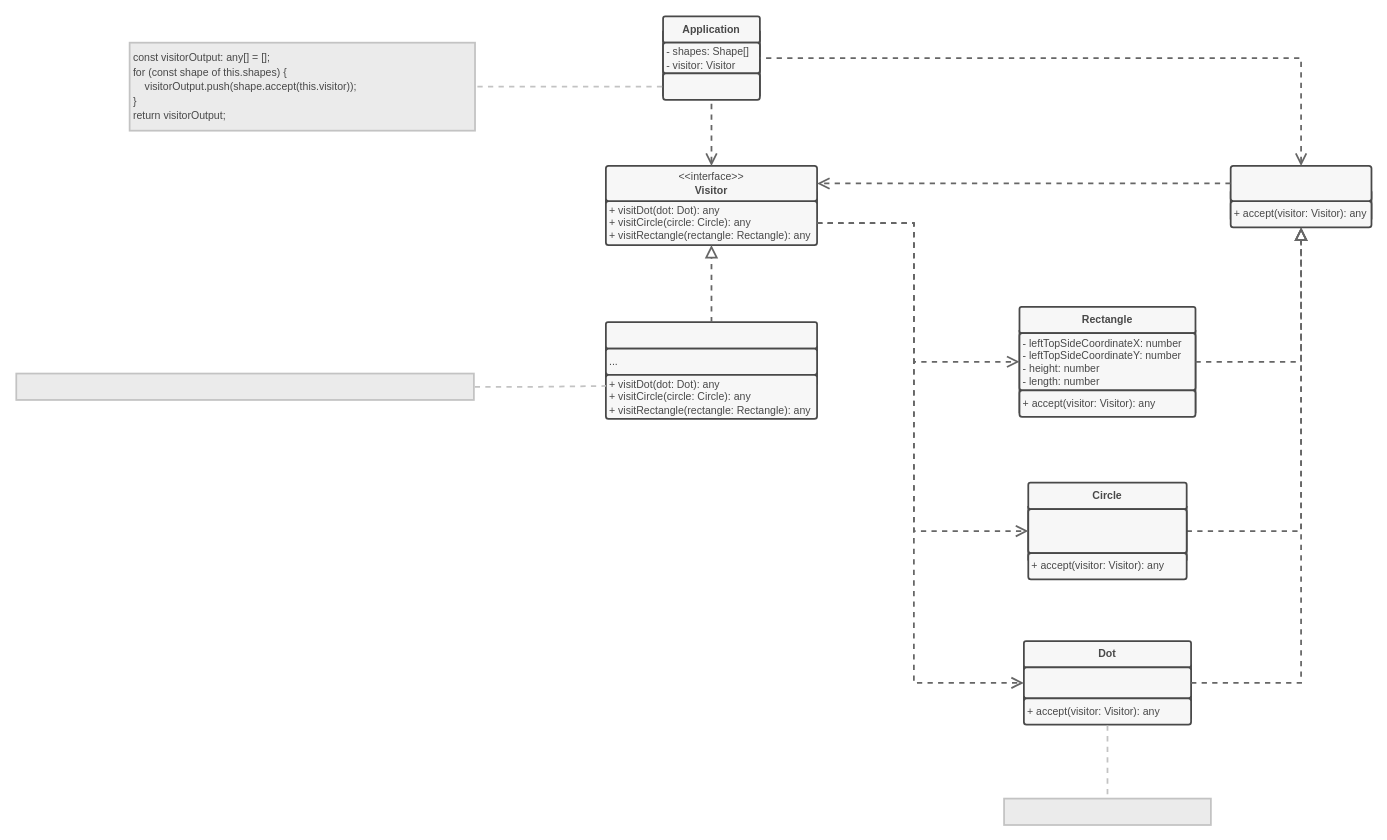
The diagram is 1387 pixels wide and 840 high, and some of its shapes have lost their labels. The centre of each missing label's shape, as x and y in pixels:
"+ export(): any" belongs at pixel 711 86.
"- centerCoordinateX: number - centerCoordinateY: number - radius: number" belongs at pixel 1107 531.
"- readonly coordinateX: number - readonly CoordinateY: number" belongs at pixel 1107 682.
"<<interface>> Element" belongs at pixel 1300 183.
"JsonExportVisitor" belongs at pixel 711 335.
"return visitor.visitDot(this);" belongs at pixel 1107 811.
"return { dot: { coordinates: [dot.coordinateX, dot.CoordinateY] } };" belongs at pixel 244 386.
